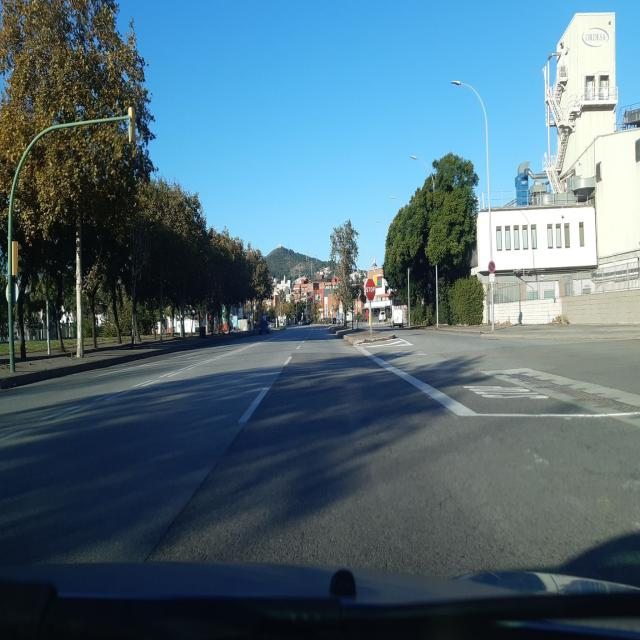forb_stopping: (488, 261, 495, 273)
